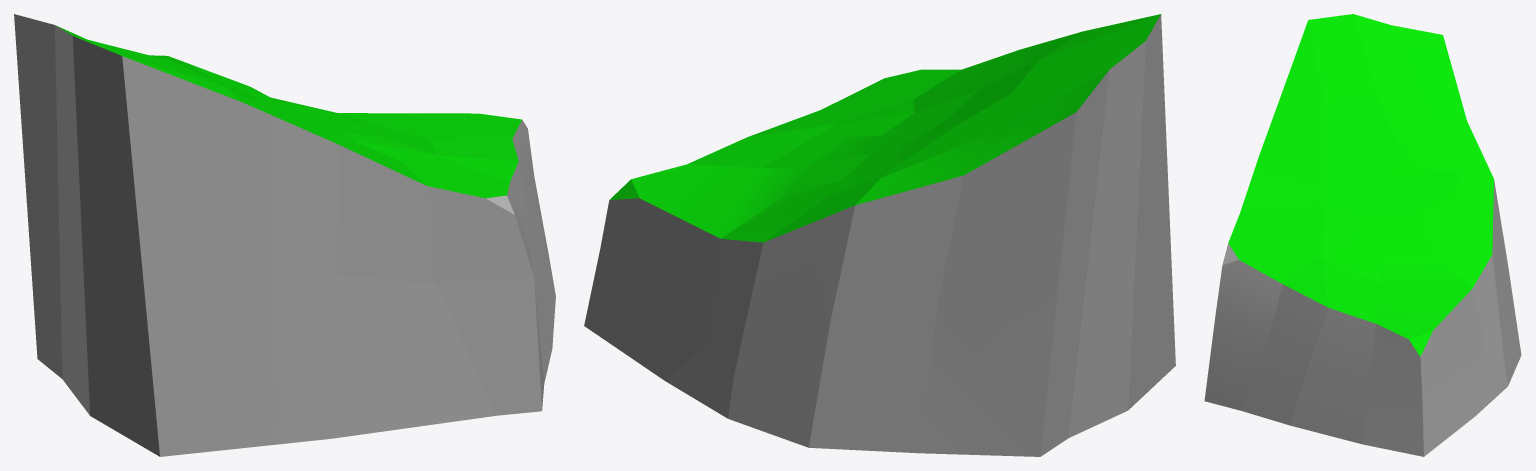
Rendered from rock_beach_medium_E.fbx.
3 views of the same model, side by side, from view 1: azimuth 30°, elevation 25°; view 2: azimuth 150°, elevation 25°; view 3: azimuth 270°, elevation 25° (orthographic). The views are drawn at different scales.
Parts seen in each view (by area): view 1: rock_beach_medium_E; view 2: rock_beach_medium_E; view 3: rock_beach_medium_E.
Part boxes in pixels (box(x1,y1,x2,y2)): rock_beach_medium_E: box(14, 14, 555, 456); rock_beach_medium_E: box(584, 14, 1175, 456); rock_beach_medium_E: box(1204, 14, 1521, 456).
Size of the model in its own units: 71.78 by 50.06 by 54.18.
